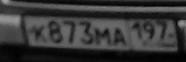license-plateSW: (22, 13, 180, 53)
